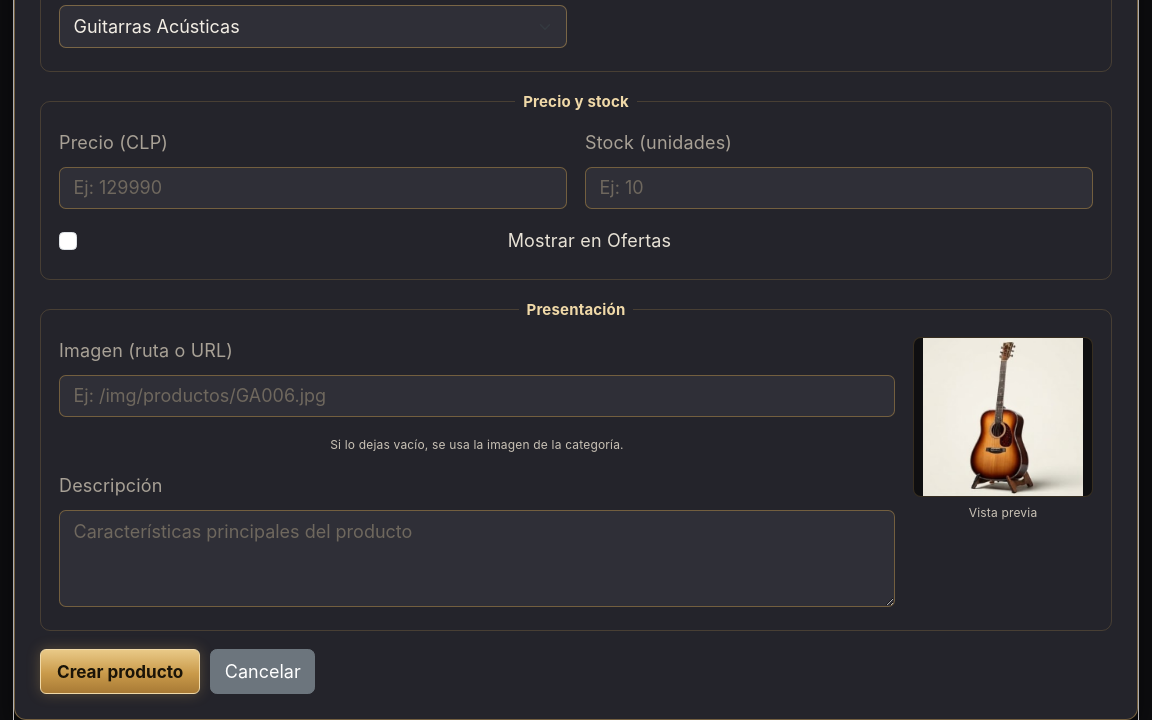
Test: FormularioProducto › muestra errores y no guarda si el formulario está vacío
(page scrolled)
Step 1. Click the button "Crear producto" → coordinates (120, 671), box [40,649,200,694]
(page scrolled)
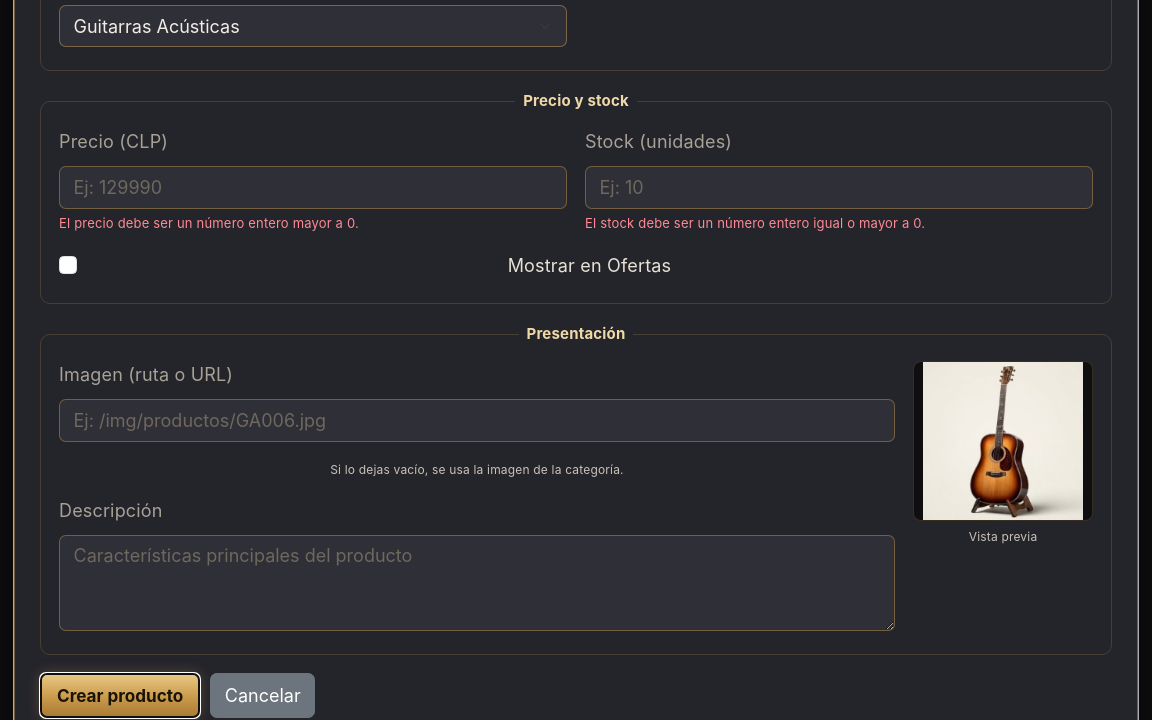
Result: the text "El precio debe ser un número entero mayor a 0." is shown at [59,215,359,231]
